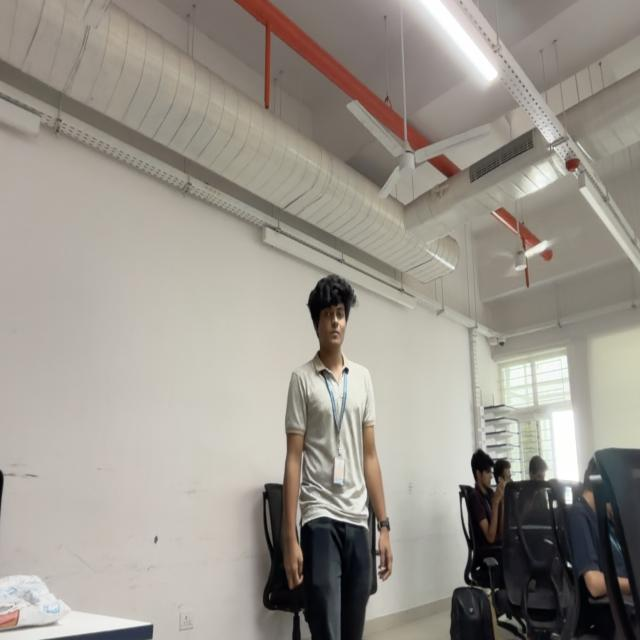kshitij: (307, 275, 357, 354)
